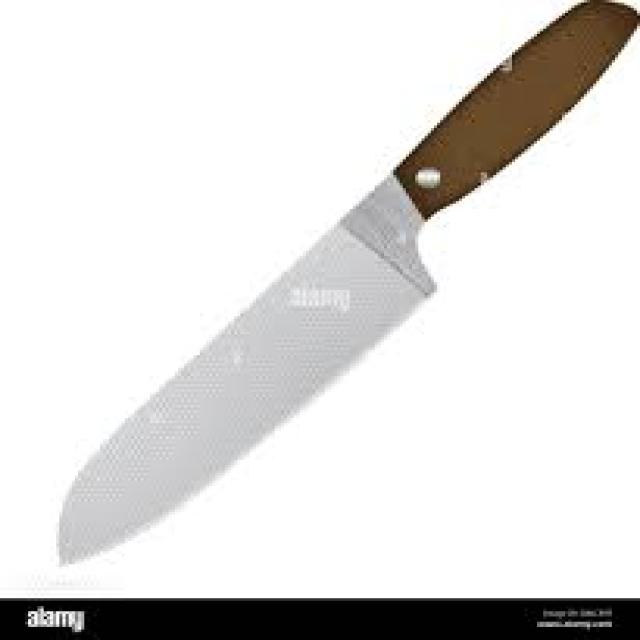Knife: (53, 0, 637, 564)
